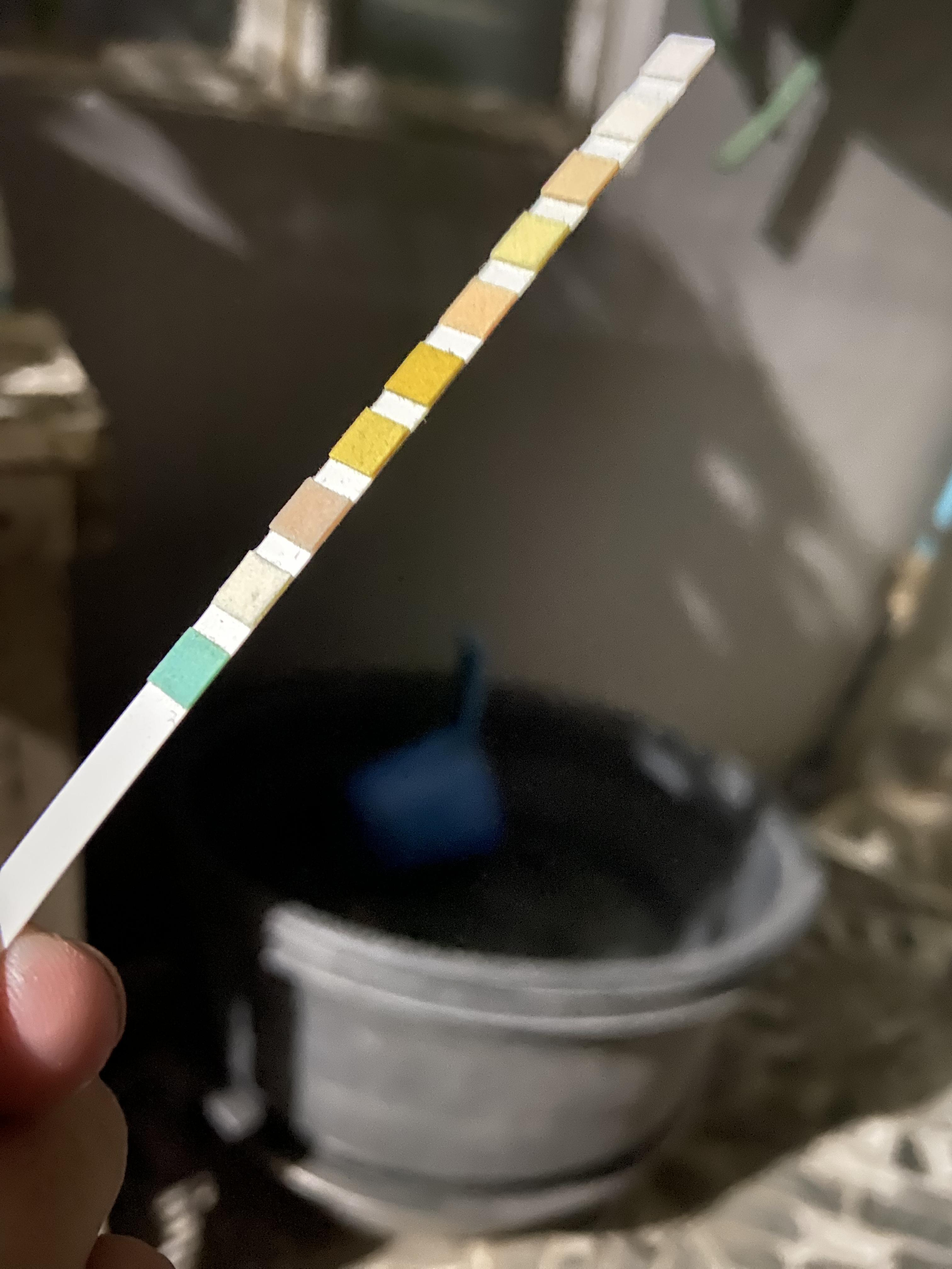Bilirubin: (233, 572, 270, 603)
Blood: (405, 358, 443, 387)
Glucose: (168, 650, 208, 685)
Ketone: (290, 500, 329, 529)
Leukocytes: (658, 47, 694, 70)
Nitrite: (612, 104, 649, 127)
Protein: (509, 226, 548, 252)
SpGravity: (347, 427, 388, 456)
Urobilinogen: (559, 167, 599, 188)
pH: (458, 296, 495, 320)
strip: (2, 34, 716, 960)
